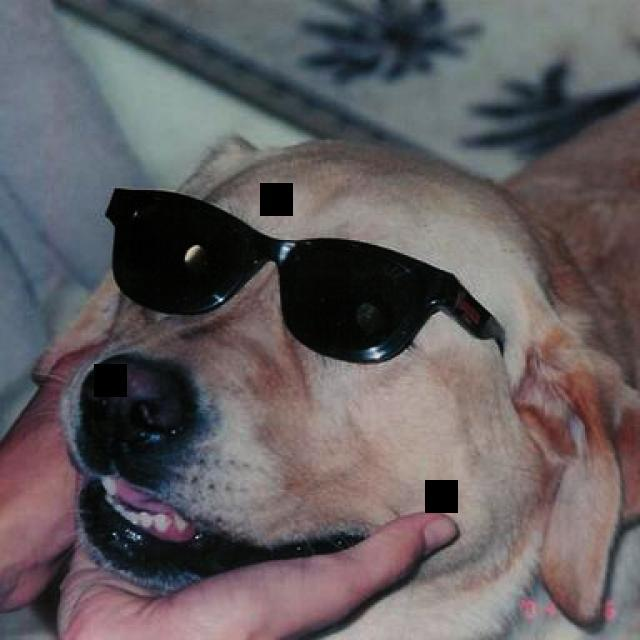adult_dog: (40, 133, 631, 640)
